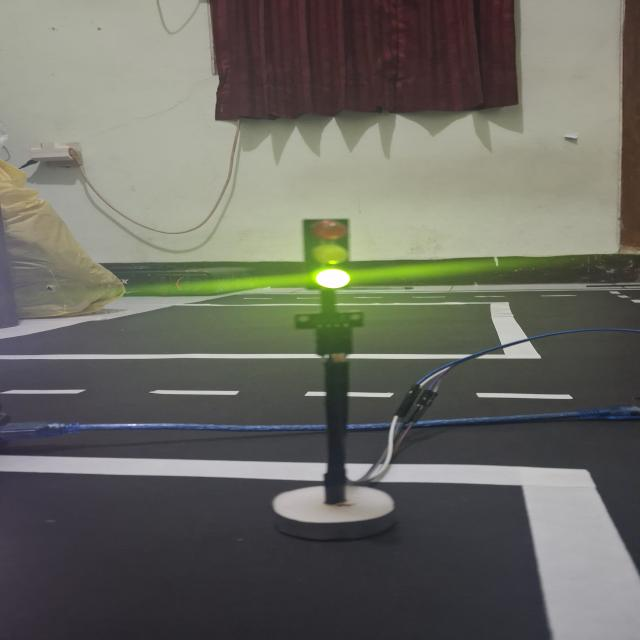Lampu Hijau: (300, 217, 354, 293)
